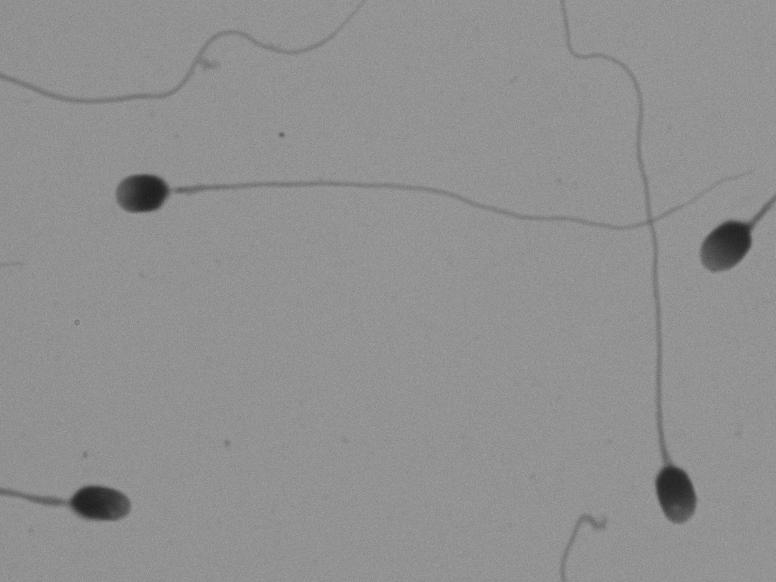Abnormal: (23, 420, 167, 561)
Normal: (85, 118, 692, 284), (554, 14, 701, 536), (683, 158, 768, 334)
